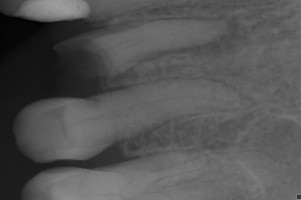Furcation Involvement: (180, 13, 251, 59)
